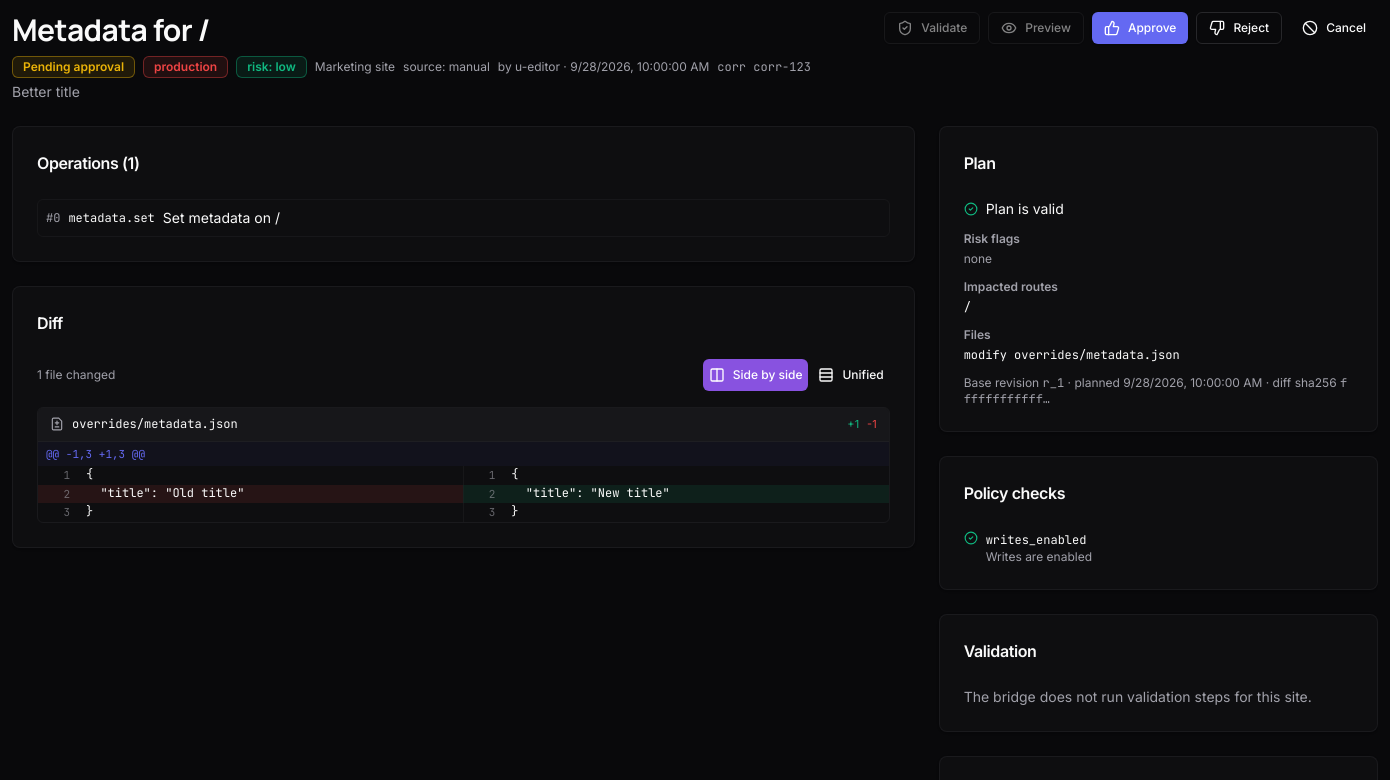
Test: renders operations, plan, policy checks and a side-by-side diff
Check: the text with test id "changeset-status" reads "Pending approval", box [23,59,124,74]
Check: the element with test id "operations" shows "Set metadata on /", box [163,209,280,226]
Click the radio button with test id "diff-mode-unified".
click(851, 375)  # box [812,359,890,391]
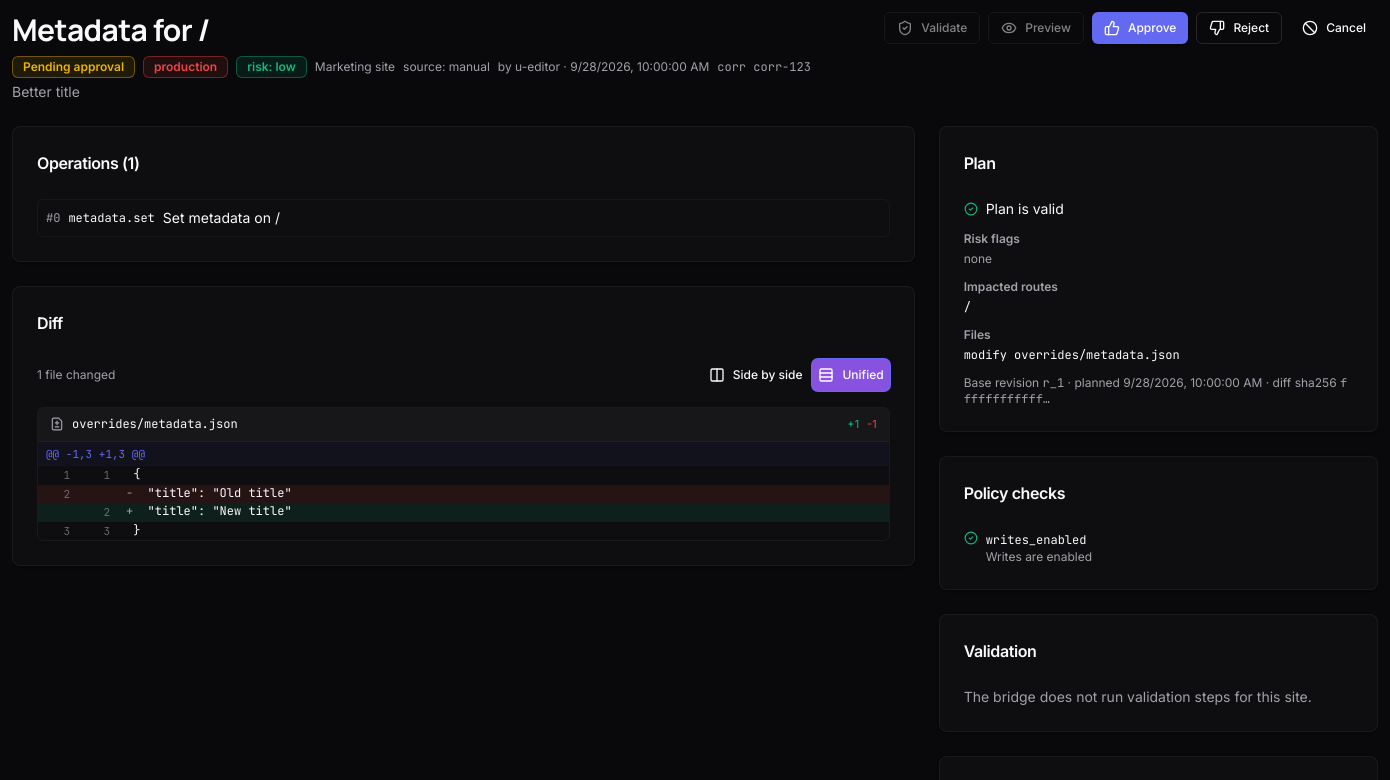
Check: the element with test id "diff-view" has attribute data-mode="unified", box [37,359,890,541]
